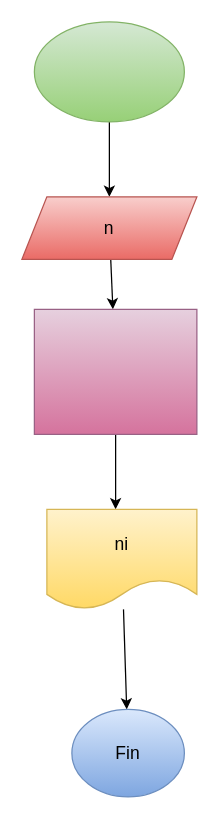
This 219x819 diagram has some shape labels left out. Here are the shapes that lost their labels. From the top down, the box of each, then its label:
(33, 21, 184, 122): Inicio
(33, 308, 197, 434): d1=(n%10)*1000 pe=n//10 d2=(pe%10)*100 pe=pe//10 d3=(pe%10)*10 d4=pe//10
